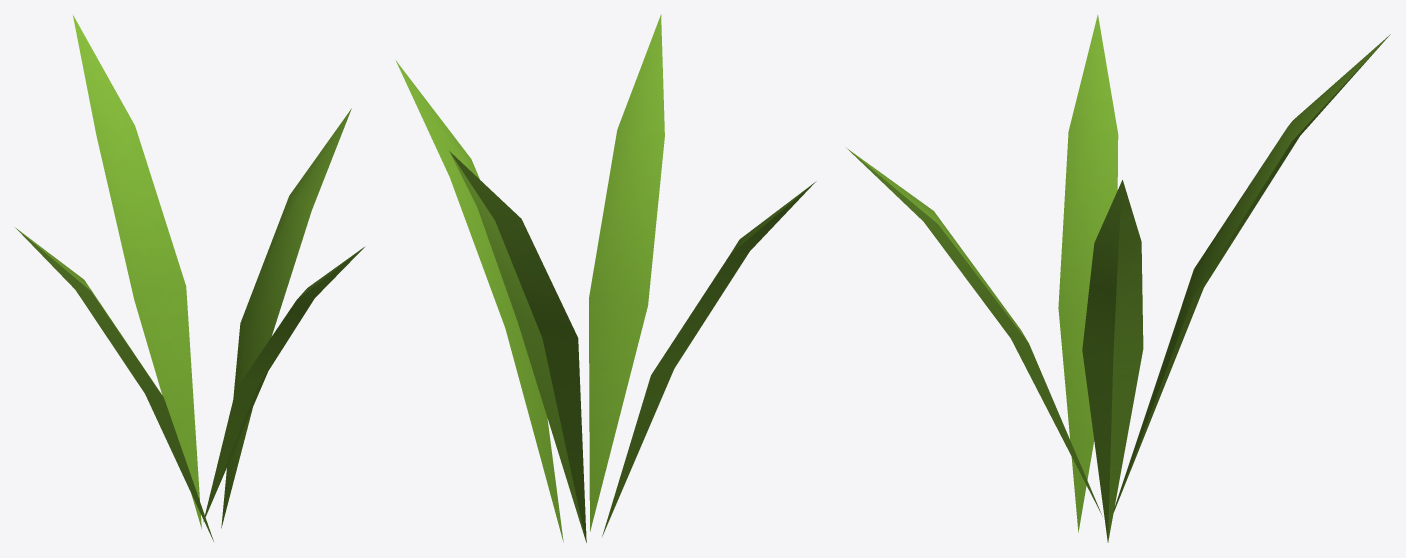
File: Grass_08.fbx
The picture shows the model from 3 angles, left to right: view 1: azimuth 30°, elevation 25°; view 2: azimuth 150°, elevation 25°; view 3: azimuth 270°, elevation 25°; orthographic projection. The views are drawn at different scales.
Parts seen in each view (by area): view 1: Grass_08; view 2: Grass_08; view 3: Grass_08.
Boxes of the visible parts, box(x1,y1,x2,y2) form: Grass_08: box(15, 14, 365, 541); Grass_08: box(396, 14, 816, 542); Grass_08: box(846, 14, 1390, 542).
Size of the model in its own units: 43.14 by 51.08 by 50.91.
